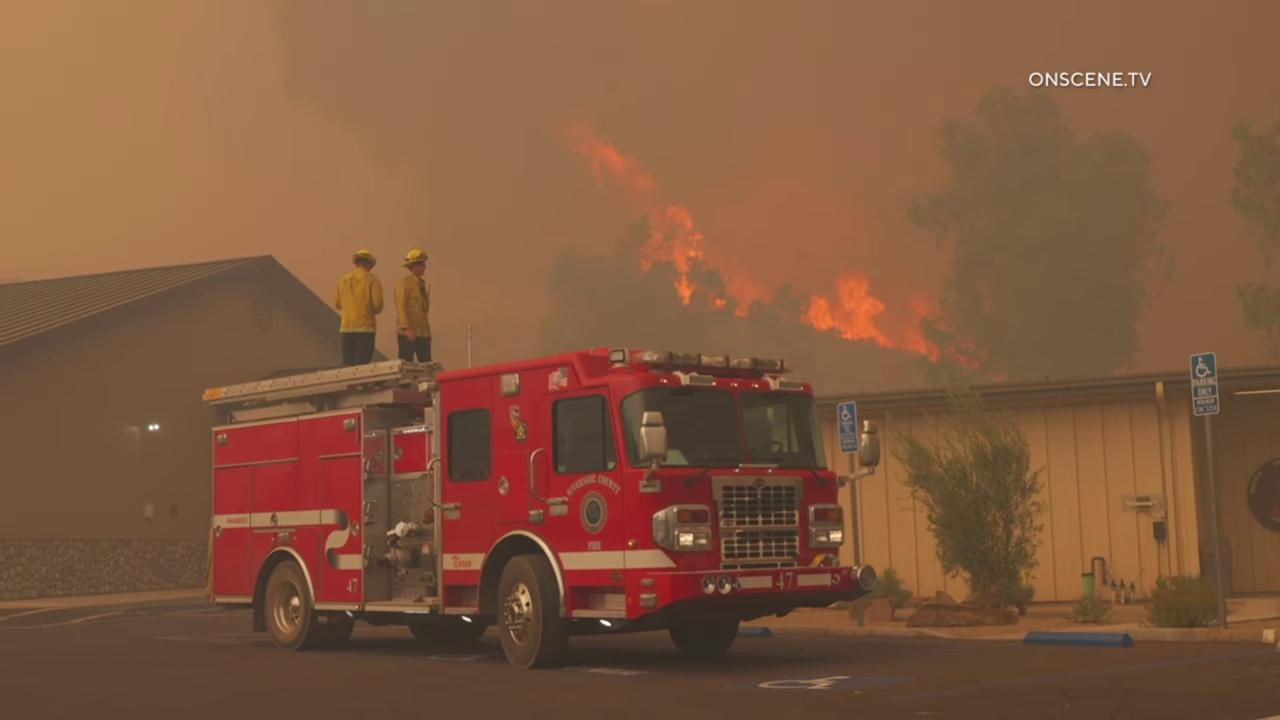fire: (553, 114, 779, 321), (800, 272, 987, 368)
smoke: (0, 0, 1280, 395)
